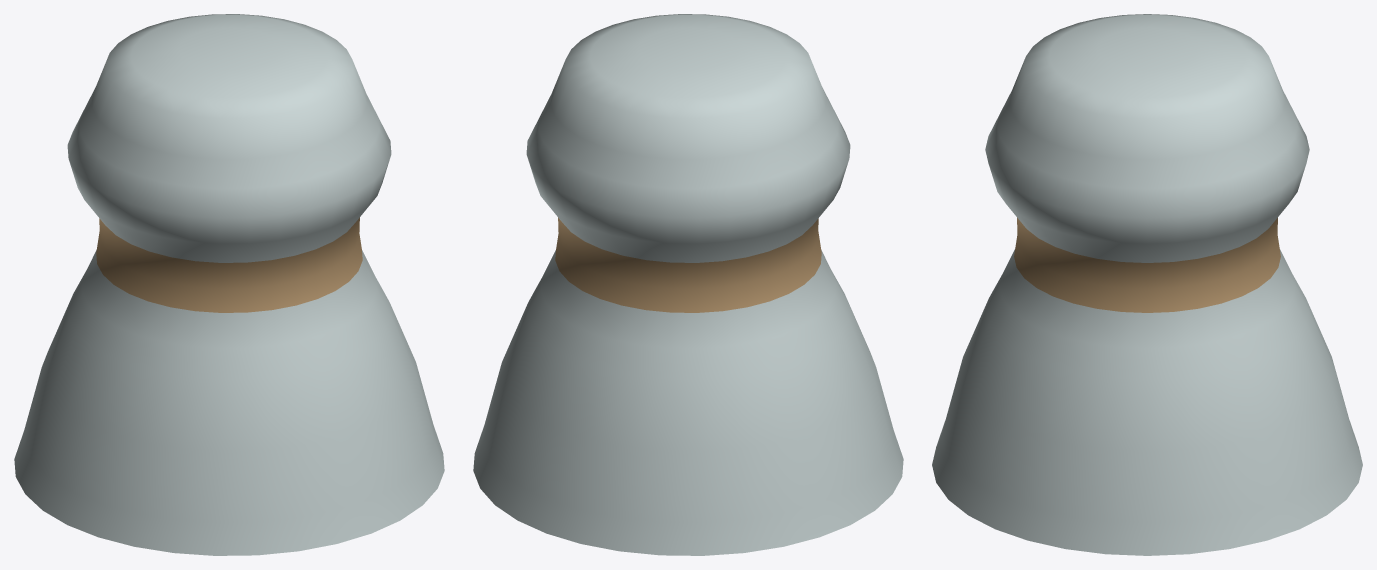
File: body.gltf
3 renders of one model, left to right at view 1: azimuth 30°, elevation 25°; view 2: azimuth 150°, elevation 25°; view 3: azimuth 270°, elevation 25°, orthographic.
Parts seen in each view (by area): view 1: Sphere.061; view 2: Sphere.061; view 3: Sphere.061.
Part boxes in pixels (x1=…): Sphere.061: x1=14, y1=14, x2=444, y2=555; Sphere.061: x1=473, y1=14, x2=903, y2=555; Sphere.061: x1=932, y1=14, x2=1362, y2=555.
Bounding box in the file's own units: 0.3694 × 0.3939 × 0.3694.
Materials: 2 (2 with a texture image).
